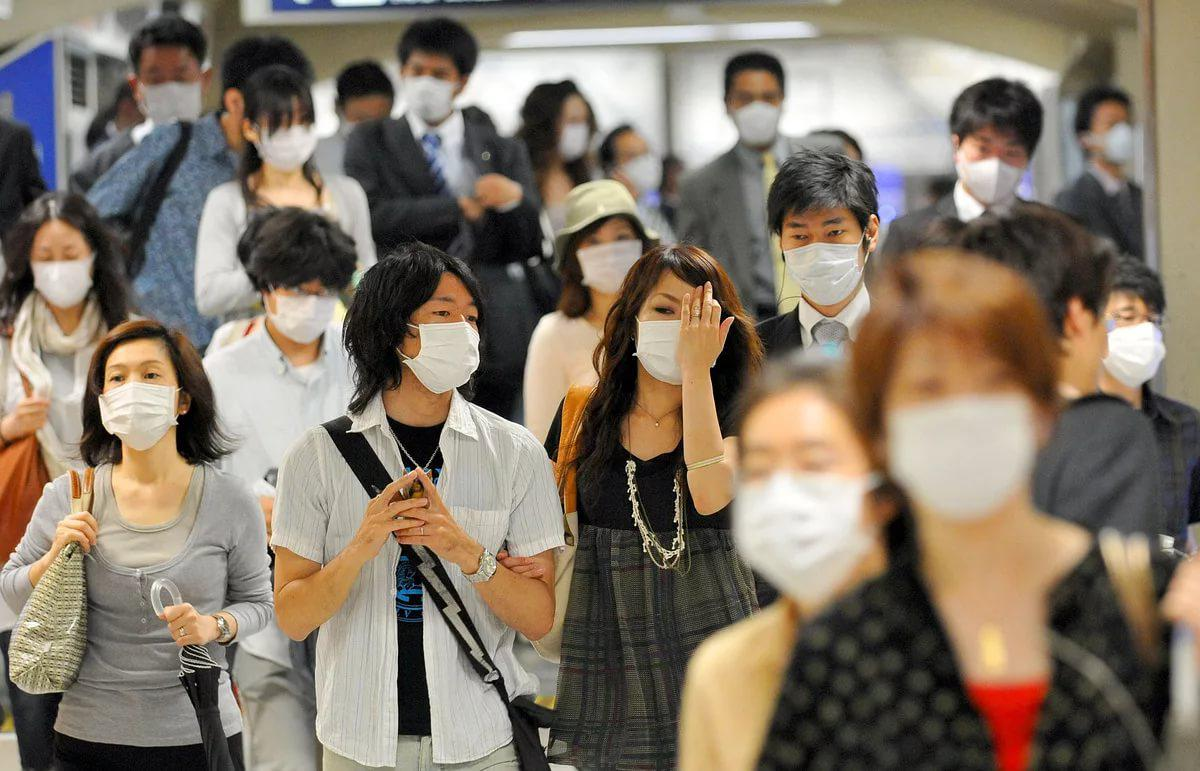mask: (880, 297, 1040, 512), (733, 399, 872, 608), (97, 339, 183, 447), (785, 194, 864, 306), (633, 269, 707, 384), (417, 280, 482, 395), (1102, 280, 1163, 386), (28, 219, 95, 311), (243, 83, 316, 165), (961, 115, 1026, 198), (134, 38, 194, 127), (267, 265, 333, 342), (578, 213, 641, 293), (402, 42, 463, 119), (731, 74, 782, 141)
